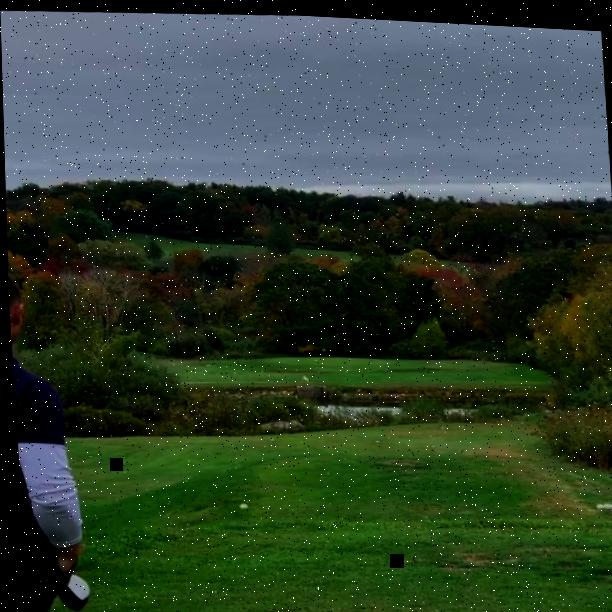ClubHead: (56, 563, 95, 610)
GolfBall: (234, 499, 248, 510)
